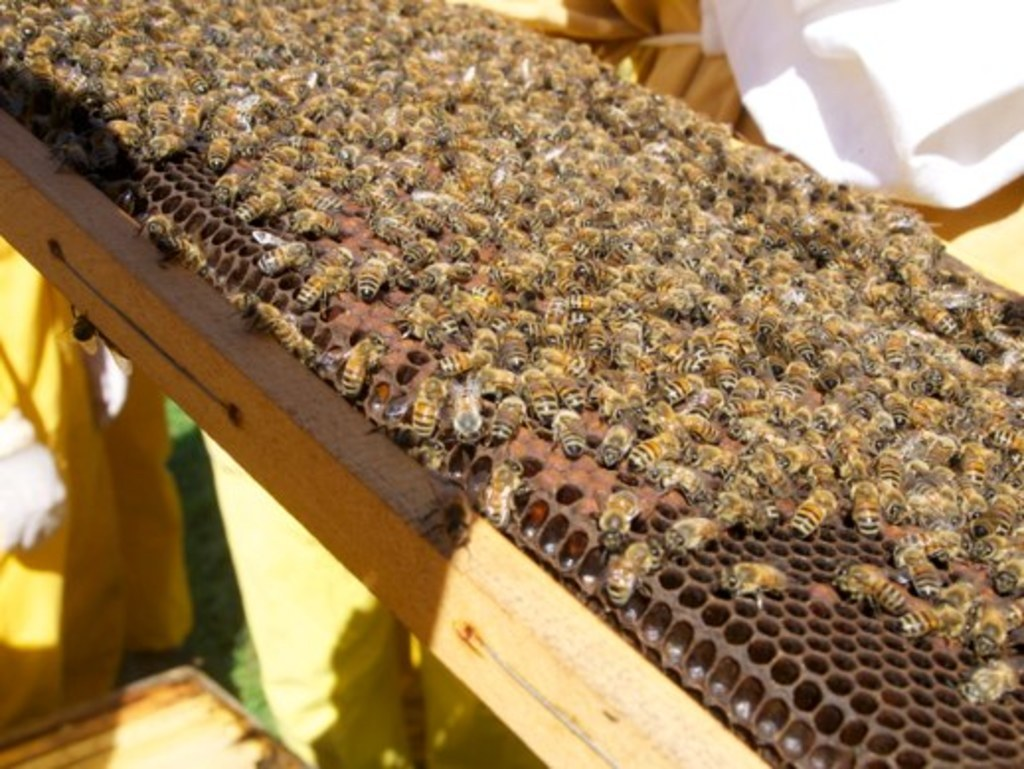bee: (0, 0, 1022, 767), (0, 0, 1022, 706), (595, 484, 644, 548)
insect: (0, 0, 1022, 767)
